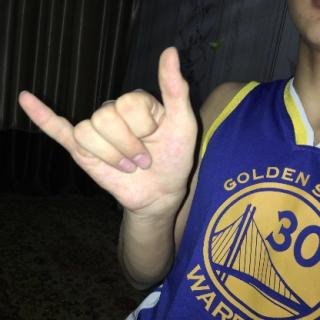YA: (16, 42, 203, 219)
